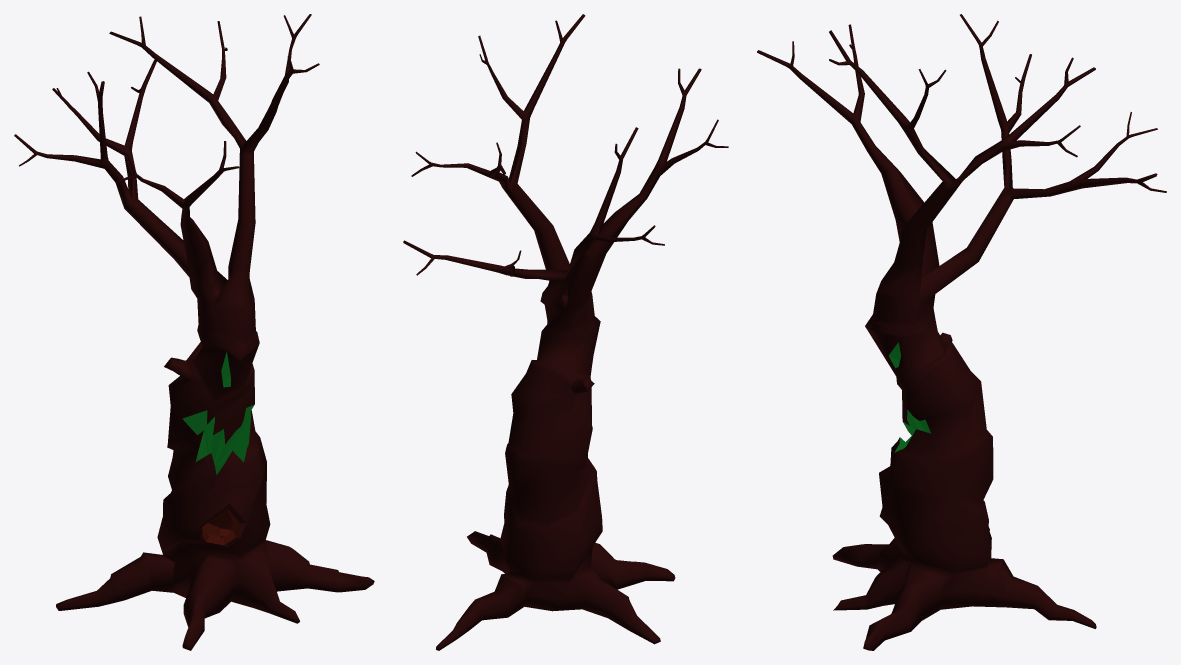
The model's file is HWN20_ScaryTree_03.glb.
3 renders of one model, left to right at view 1: azimuth 30°, elevation 25°; view 2: azimuth 150°, elevation 25°; view 3: azimuth 270°, elevation 25°, orthographic. The views are drawn at different scales.
Parts seen in each view (by area): view 1: HWN20_ScaryTree_03; view 2: HWN20_ScaryTree_03; view 3: HWN20_ScaryTree_03.
Part boxes in pixels (left/top/right/bottom): HWN20_ScaryTree_03: left=14, top=14, right=374, bottom=650; HWN20_ScaryTree_03: left=403, top=14, right=728, bottom=650; HWN20_ScaryTree_03: left=757, top=14, right=1166, bottom=650.
Size of what is drawn, in the model's own units: 2.5 by 4.92 by 3.12.
2 materials, 2 textured.
